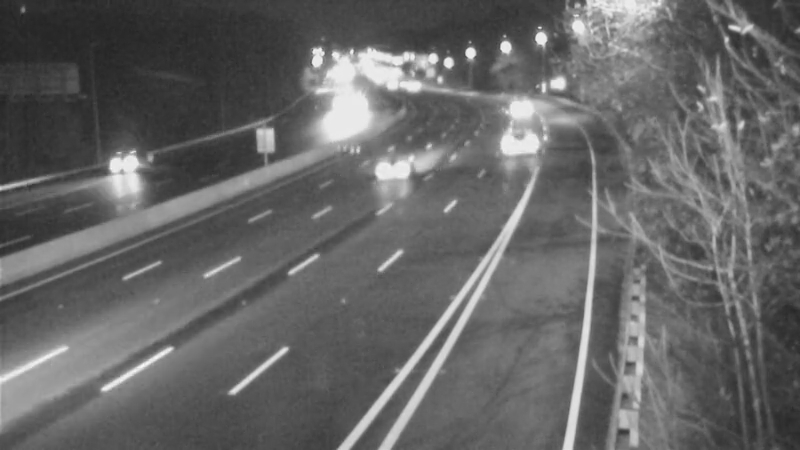vehicle: (355, 123, 435, 203), (86, 126, 166, 206), (483, 77, 533, 127), (500, 110, 550, 160)
